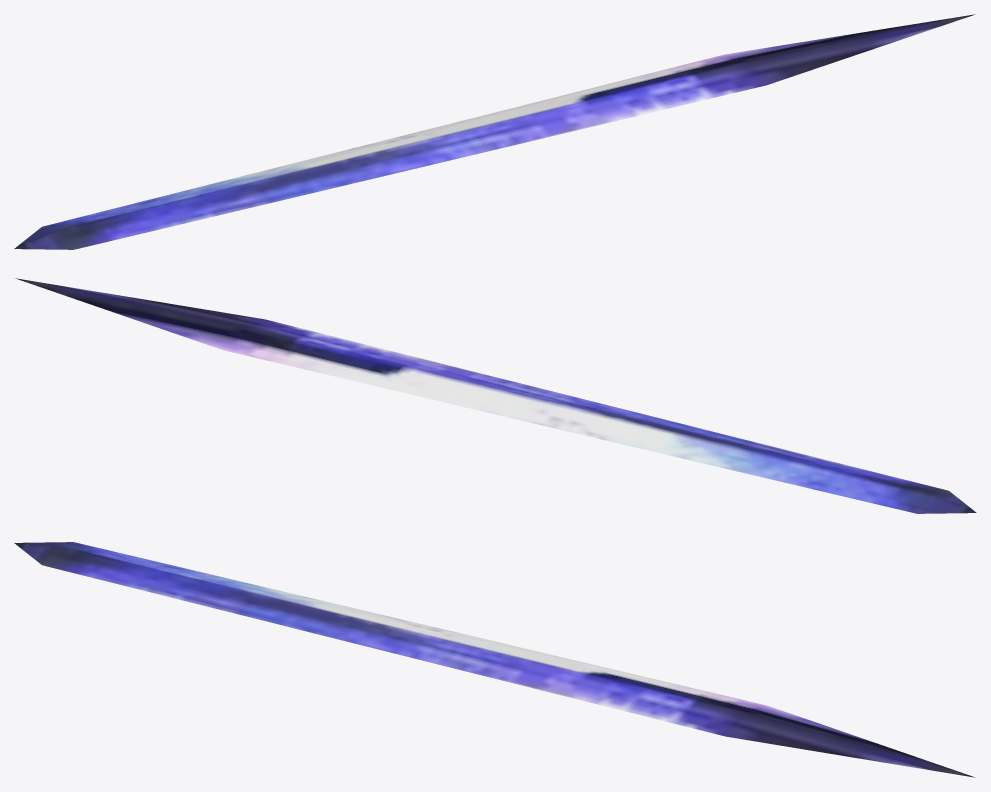
The model's file is NIENAOSTRZONE_MAGICZNEJ_OSTRZE.glb.
3 renders of one model, top to bottom at view 1: azimuth 30°, elevation 25°; view 2: azimuth 150°, elevation 25°; view 3: azimuth 330°, elevation 25°, orthographic.
Visible parts, largest first — view 1: NIENAOSTRZONE_MAGICZNEJ_OSTRZE; view 2: NIENAOSTRZONE_MAGICZNEJ_OSTRZE; view 3: NIENAOSTRZONE_MAGICZNEJ_OSTRZE.
Boxes of the visible parts, x1,y1,x2,y2 form: NIENAOSTRZONE_MAGICZNEJ_OSTRZE: (14, 14, 975, 249); NIENAOSTRZONE_MAGICZNEJ_OSTRZE: (15, 278, 976, 513); NIENAOSTRZONE_MAGICZNEJ_OSTRZE: (14, 542, 975, 777).
Bounding box in the file's own units: 1.05 × 0.016 × 0.08.
1 material, 1 textured.
